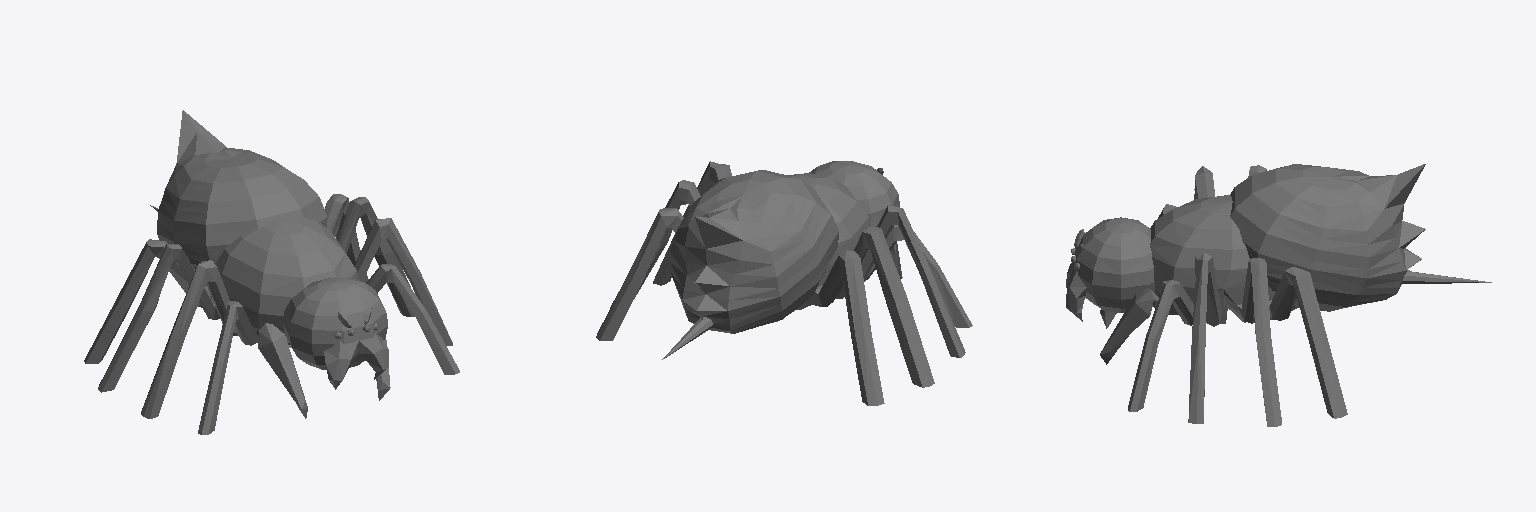
File: Medium_Spider_Enemy.obj
The picture shows the model from 3 angles: view 1: azimuth 30°, elevation 25°; view 2: azimuth 150°, elevation 25°; view 3: azimuth 270°, elevation 25°; orthographic projection.
Parts seen in each view (by area): view 1: spider_small_medium:pSphere9; view 2: spider_small_medium:pSphere9; view 3: spider_small_medium:pSphere9.
Boxes of the visible parts, box(x1,y1,x2,y2) form: spider_small_medium:pSphere9: box(84, 110, 459, 434); spider_small_medium:pSphere9: box(596, 161, 972, 405); spider_small_medium:pSphere9: box(1066, 164, 1491, 426).
Size of the model in its own units: 7.56 by 4.17 by 8.72.